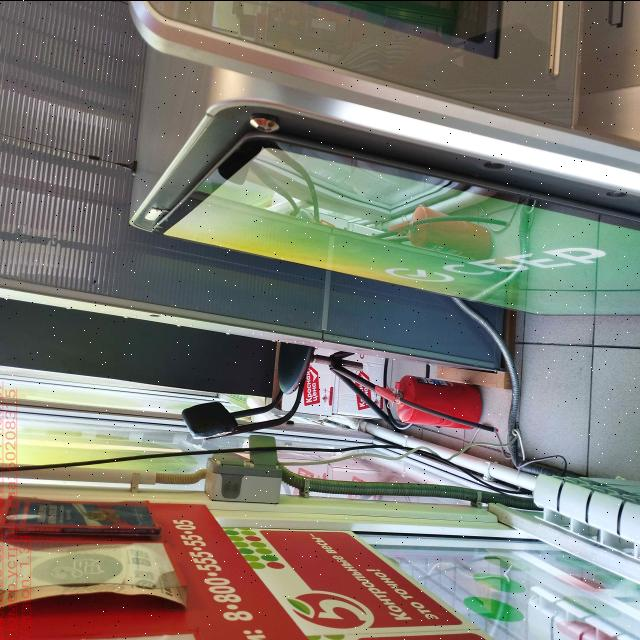bank: (120, 0, 640, 314)
